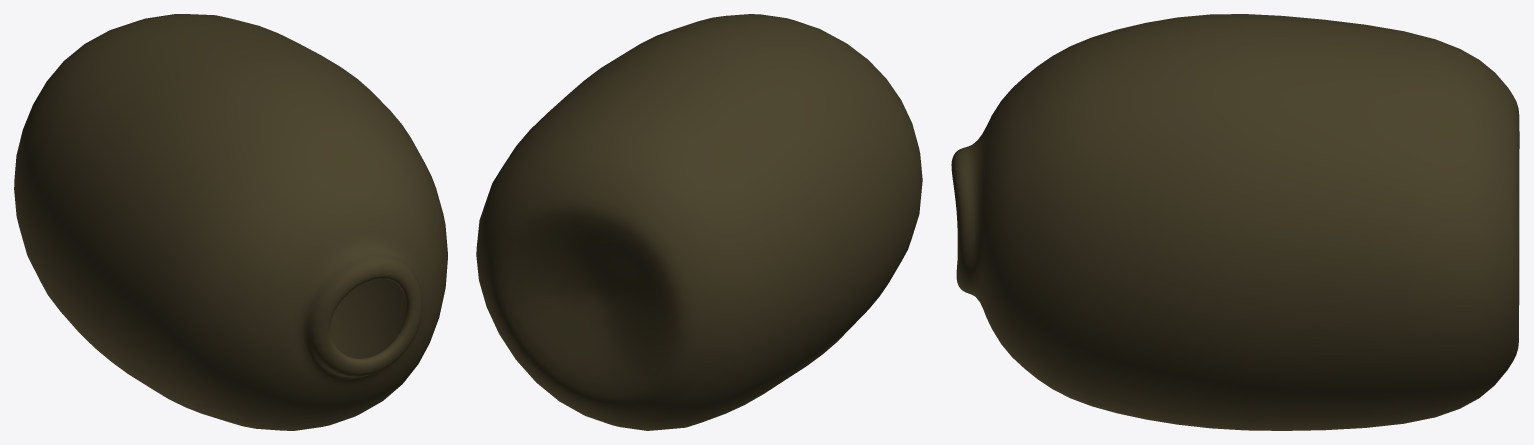
Rendered from YellowVase.obj.
3 views of the same model, side by side, from view 1: azimuth 30°, elevation 25°; view 2: azimuth 150°, elevation 25°; view 3: azimuth 270°, elevation 25° (orthographic). The views are drawn at different scales.
Parts seen in each view (by area): view 1: YellowVase; view 2: YellowVase; view 3: YellowVase.
Boxes of the visible parts, x1,y1,x2,y2 form: YellowVase: (14,14,447,430); YellowVase: (476,14,922,430); YellowVase: (951,14,1519,430).
Size of the model in its own units: 0.1582 by 0.1575 by 0.2147.
